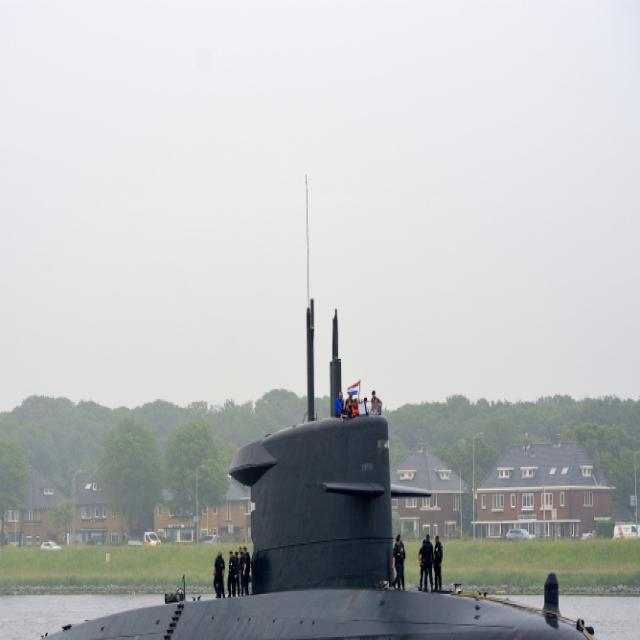submarine: (15, 286, 636, 640)
